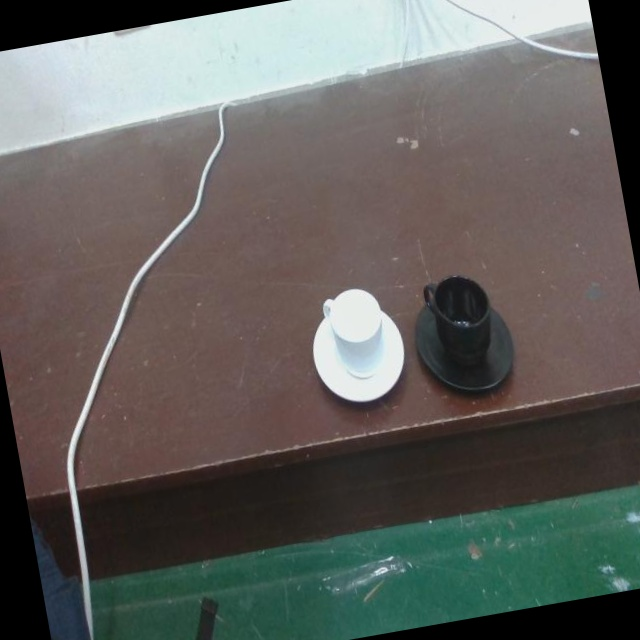black: (413, 269, 513, 399)
white: (311, 286, 406, 408)
